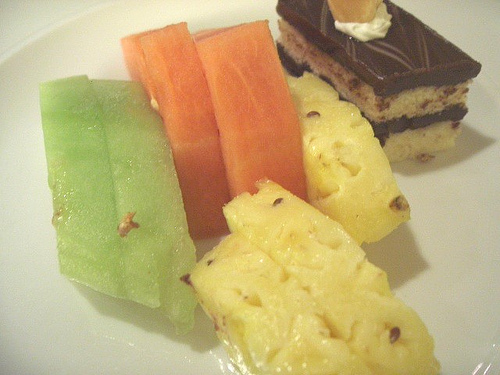pineapple: (221, 177, 447, 369), (186, 232, 372, 374), (283, 70, 412, 248)
